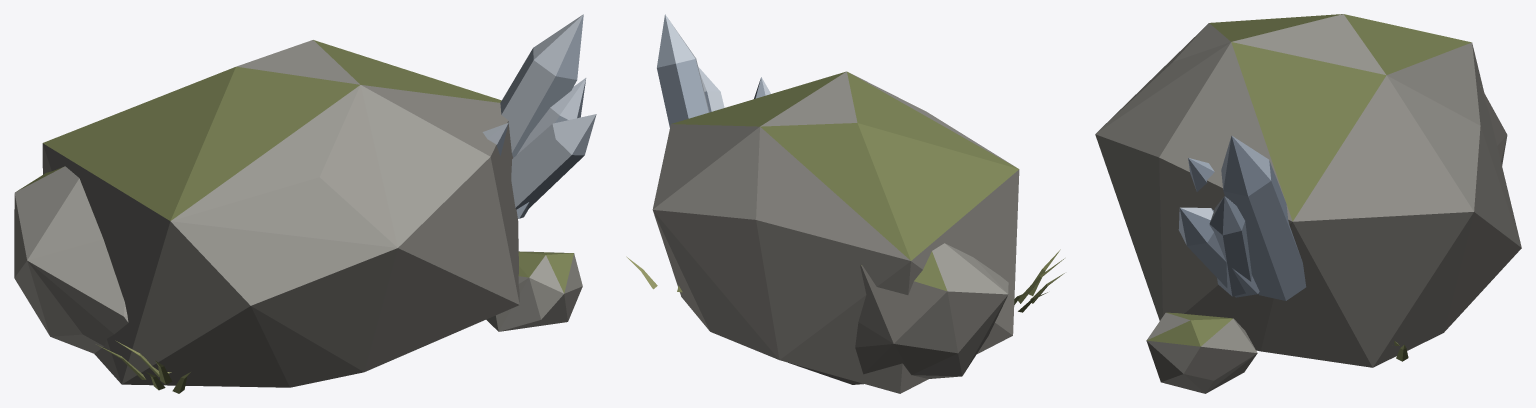
File: rock_temperate_0.glb
The picture shows the model from 3 angles, left to right: view 1: azimuth 30°, elevation 25°; view 2: azimuth 150°, elevation 25°; view 3: azimuth 270°, elevation 25°; orthographic projection. The views are drawn at different scales.
Parts seen in each view (by area): view 1: Body; view 2: Body; view 3: Body.
Part boxes in pixels (bbox=[...]): Body: bbox=[14, 14, 596, 393]; Body: bbox=[626, 14, 1064, 393]; Body: bbox=[1095, 14, 1521, 393].
Bounding box in the file's own units: 3.92 × 2.09 × 2.93.
